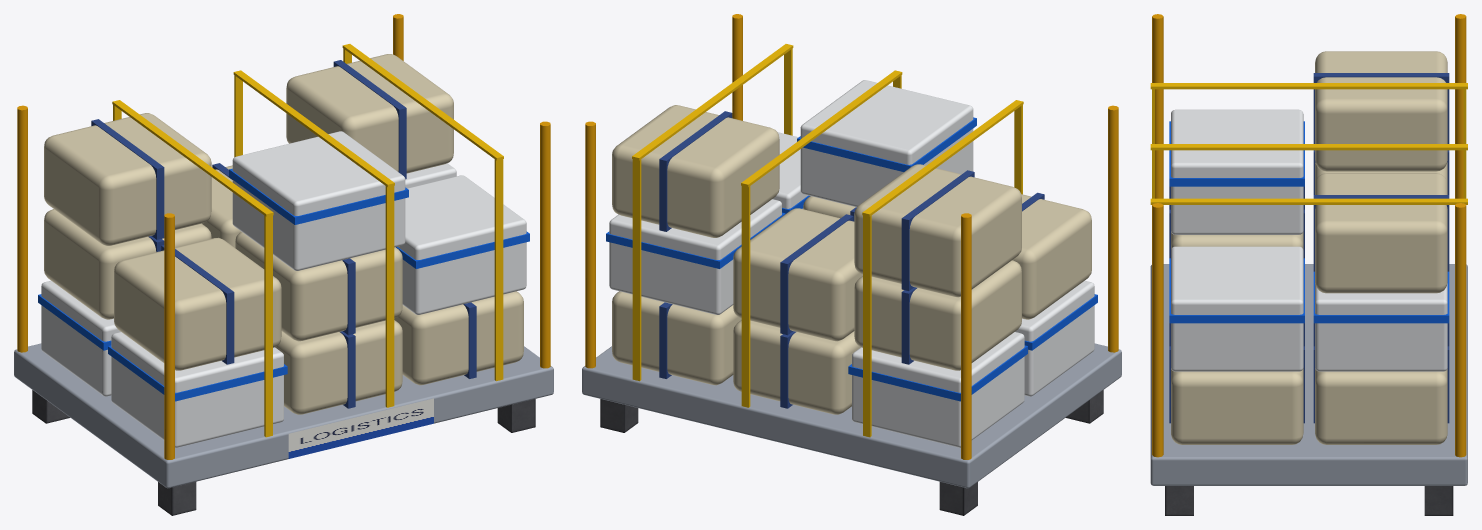
Rendered from LogisticsPallet.glb.
3 renders of one model, left to right at view 1: azimuth 30°, elevation 25°; view 2: azimuth 150°, elevation 25°; view 3: azimuth 270°, elevation 25°, orthographic. The views are drawn at different scales.
Visible parts, largest first — view 1: LogisticsPallet_Mesh; view 2: LogisticsPallet_Mesh; view 3: LogisticsPallet_Mesh.
Part boxes in pixels (x1,y1,x2,y2): LogisticsPallet_Mesh: (14, 14, 553, 515); LogisticsPallet_Mesh: (582, 14, 1121, 515); LogisticsPallet_Mesh: (1150, 14, 1467, 515).
Bounding box in the file's own units: 3.2 × 2.4 × 2.2.
Materials: 18 (2 with a texture image).
